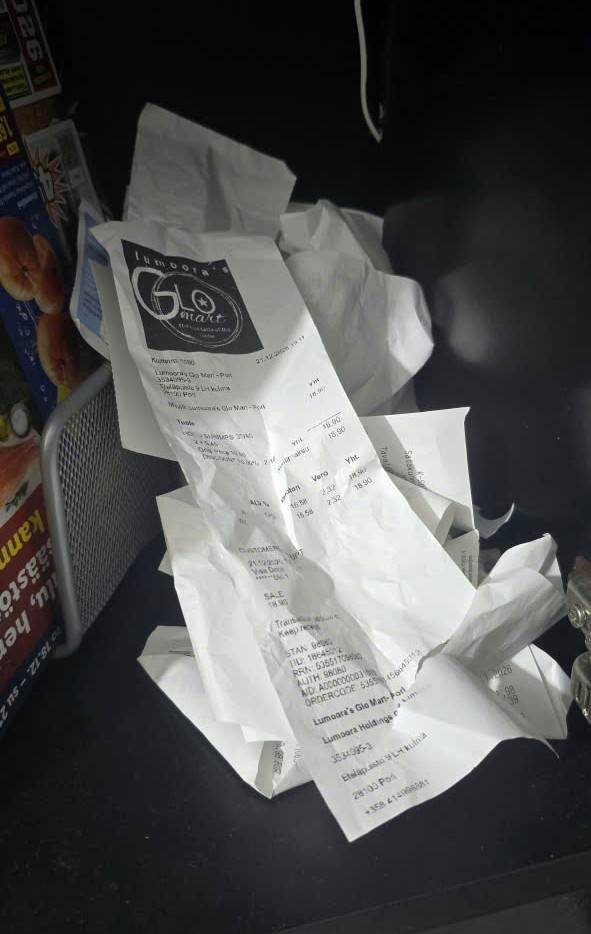paper: (69, 96, 573, 848)
